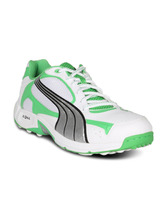shoes: (12, 58, 156, 159)
